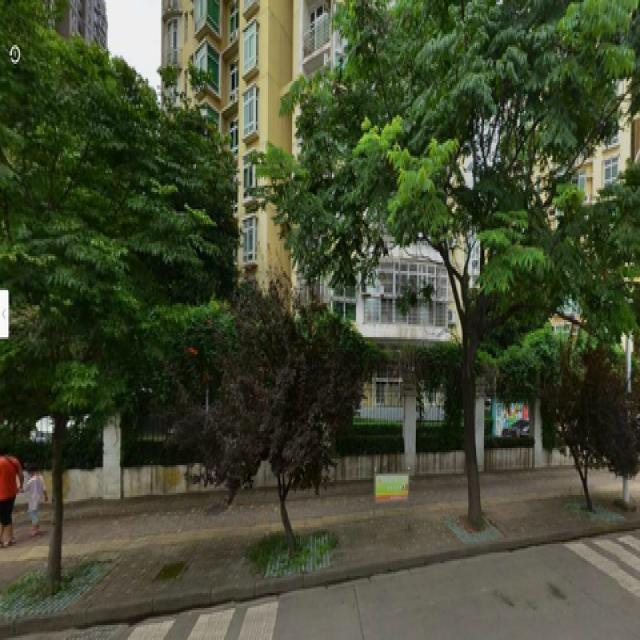koel: (334, 4, 586, 499)
